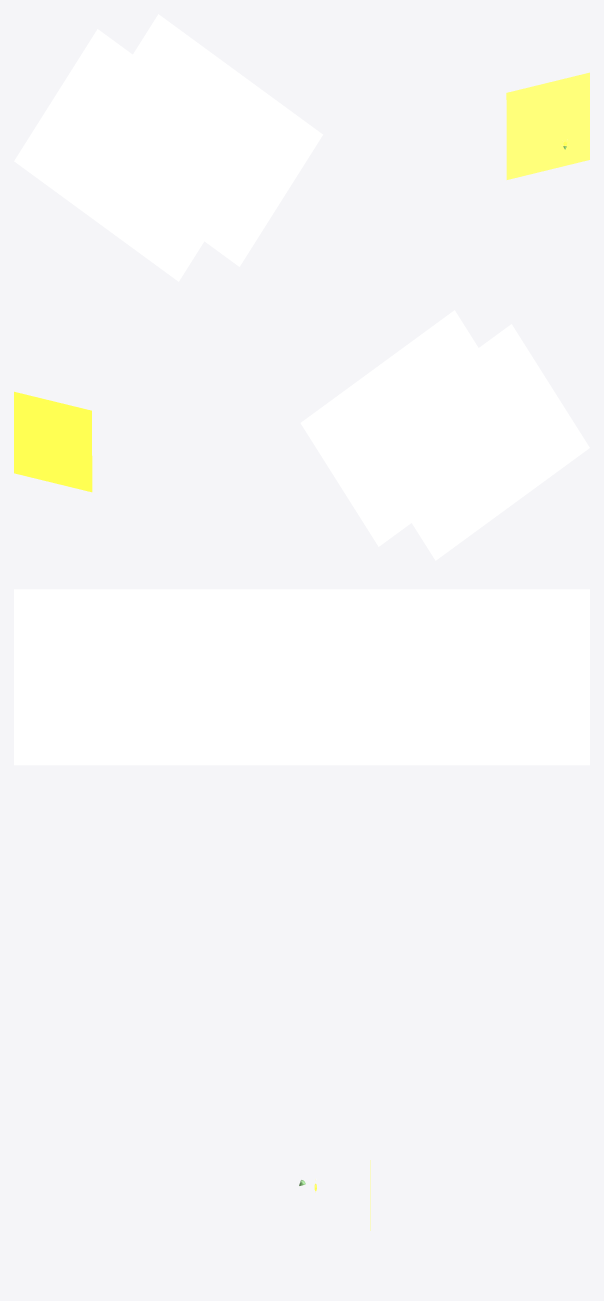
Rendered from Star.glb.
3 renders of one model, top to bottom at view 1: azimuth 30°, elevation 25°; view 2: azimuth 150°, elevation 25°; view 3: azimuth 270°, elevation 25°, orthographic. The views are drawn at different scales.
Visible parts, largest first — view 1: Plane.003, Plane.002, Plane; view 2: Plane.003, Plane.002, Plane; view 3: Plane.002, Plane.003.
Boxes of the visible parts, x1,y1,x2,y2 form: Plane.003: (14,29,262,281); Plane.002: (133,14,322,266); Plane: (506,72,589,179); Plane.003: (357,324,589,560); Plane.002: (300,310,478,546); Plane: (14,391,92,492); Plane.002: (14,641,589,765); Plane.003: (14,589,589,640).
Bounding box in the file's own units: 63.71 × 22.51 × 35.45.
